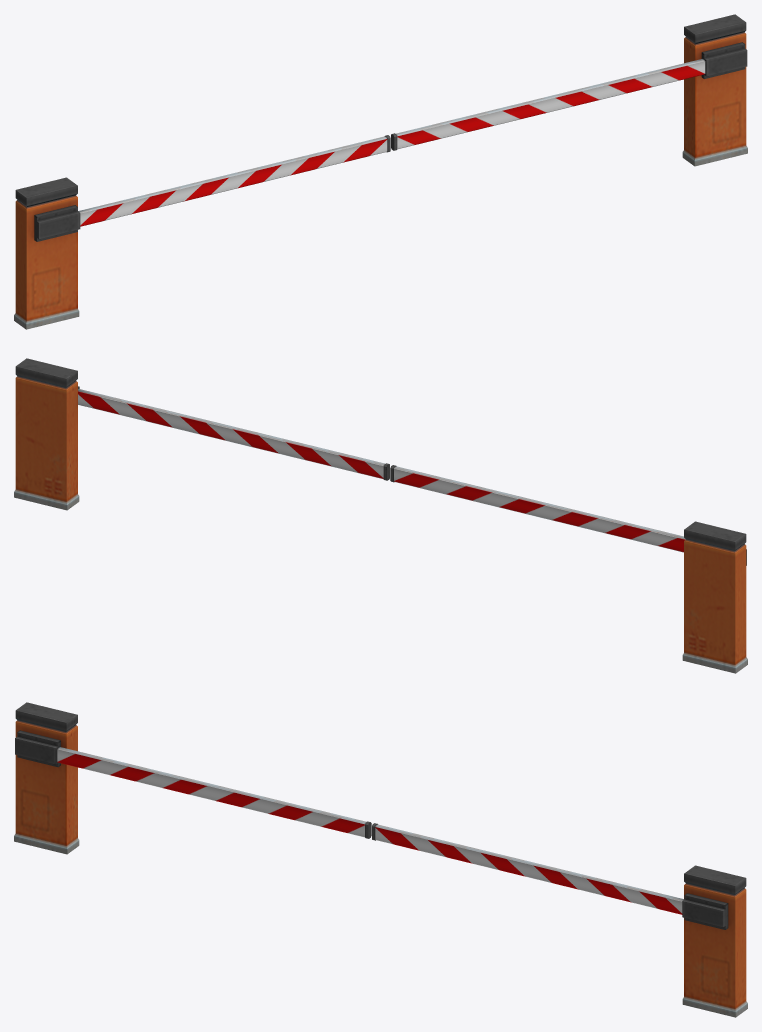
Rendered from Parking_Barrier.FBX.
3 views of the same model, one above another, from view 1: azimuth 30°, elevation 25°; view 2: azimuth 150°, elevation 25°; view 3: azimuth 330°, elevation 25° (orthographic).
Visible parts, largest first — view 1: Object003, Object005, Object004, Object002; view 2: Object005, Object003, Object004, Object002; view 3: Object005, Object003, Object004, Object002.
Part boxes in pixels (bbox=[...]): Object003: bbox=[14, 177, 79, 329]; Object005: bbox=[682, 14, 747, 166]; Object004: bbox=[391, 42, 747, 150]; Object002: bbox=[34, 135, 390, 241]; Object005: bbox=[14, 358, 79, 510]; Object003: bbox=[682, 521, 747, 673]; Object004: bbox=[78, 386, 389, 480]; Object002: bbox=[390, 465, 746, 565]; Object005: bbox=[682, 865, 747, 1017]; Object003: bbox=[14, 702, 79, 854]; Object004: bbox=[372, 823, 728, 929]; Object002: bbox=[15, 730, 371, 838].
Bounding box in the file's own units: 426 × 73.81 × 18.49.
Materials: 1 (1 with a texture image).
